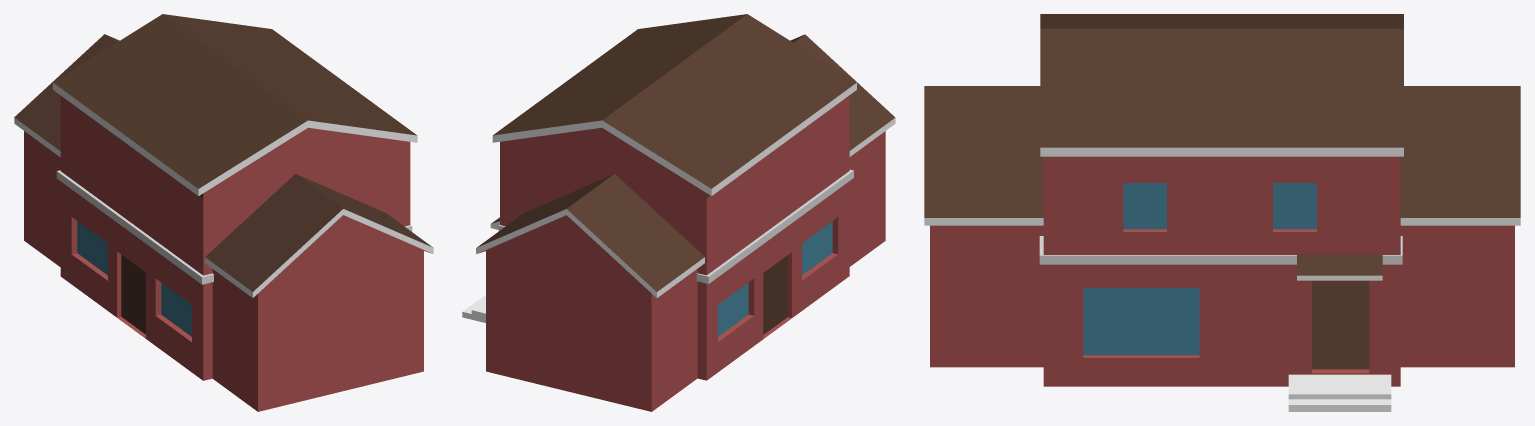
File: house4.fbx
3 views of the same model, side by side, from view 1: azimuth 30°, elevation 25°; view 2: azimuth 150°, elevation 25°; view 3: azimuth 270°, elevation 25° (orthographic). The views are drawn at different scales.
Parts seen in each view (by area): view 1: Cube.039, Cube.040, Cube.043, Cube.028; view 2: Cube.039, Cube.043, Cube.040, Cube.028, Cube.038; view 3: Cube.039, Cube.043, Cube.040, Cube.038, Cube.028, Cube.042.
Part boxes in pixels (bbox=[...]): Cube.039: bbox=[53, 14, 417, 380]; Cube.040: bbox=[205, 174, 433, 411]; Cube.043: bbox=[14, 34, 119, 266]; Cube.028: bbox=[56, 170, 412, 284]; Cube.039: bbox=[492, 14, 856, 380]; Cube.043: bbox=[476, 174, 704, 411]; Cube.040: bbox=[790, 34, 895, 266]; Cube.028: bbox=[498, 169, 853, 283]; Cube.038: bbox=[462, 295, 485, 322]; Cube.039: bbox=[1040, 14, 1403, 386]; Cube.043: bbox=[1400, 86, 1520, 367]; Cube.040: bbox=[924, 86, 1043, 367]; Cube.038: bbox=[1288, 374, 1391, 411]; Cube.028: bbox=[1039, 236, 1402, 264]; Cube.042: bbox=[1297, 254, 1382, 280].
Size of the model in its own units: 1.53 by 1.36 by 2.49.
